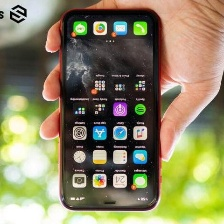phone: (57, 5, 163, 215)
